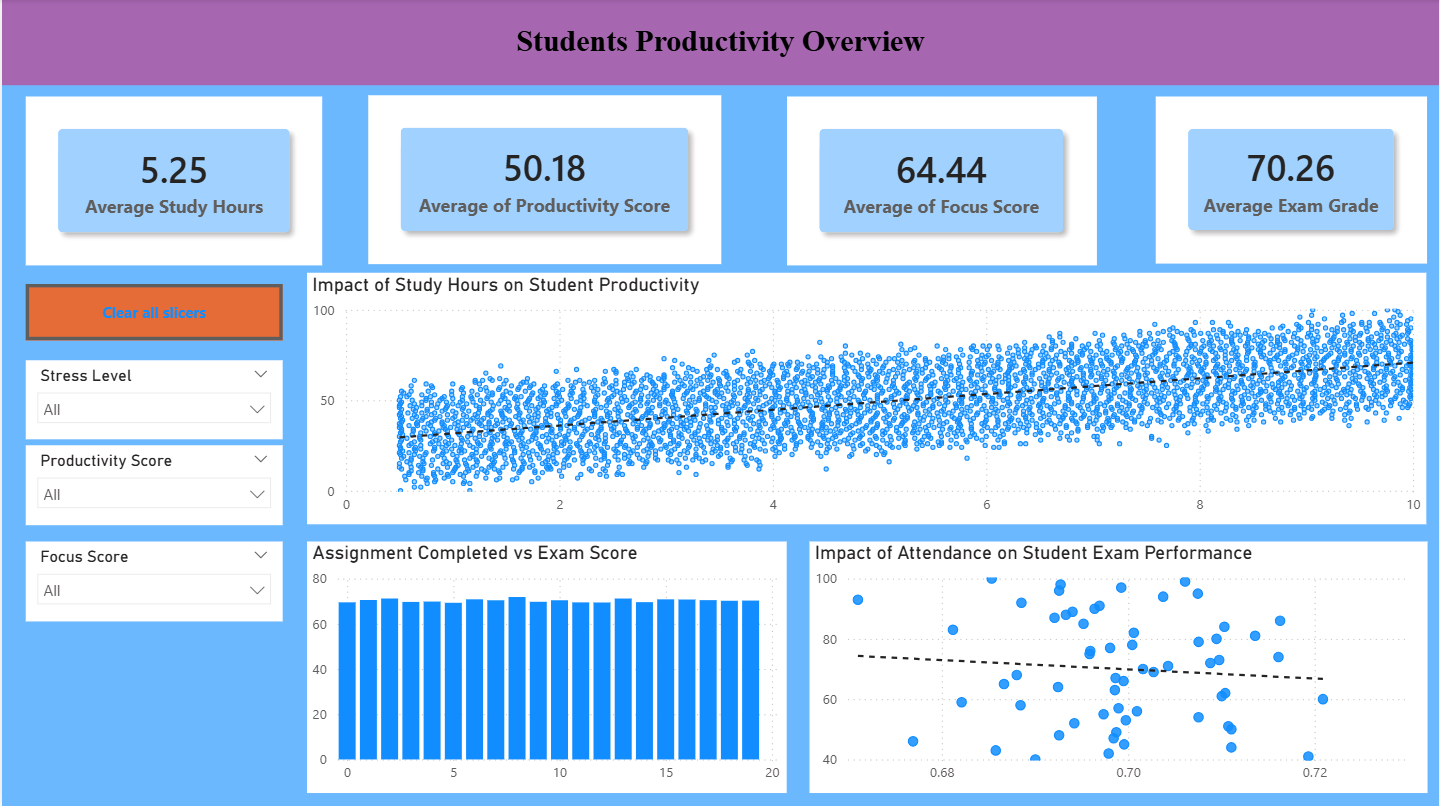

The dashboard page shown, as its layout file describes it:
{"tool":"powerbi","page":{"name":"Student Productivity Overview","canvas":[1280,720],"ordinal":0},"visuals":[{"type":"textbox","box":[0,0,1280,77.1],"z":0},{"type":"cardVisual","fields":{"Data":["Avg(Productivity and Distraction Analysis.Study Hours)"]},"box":[21.4,87.1,264.3,150],"z":1000},{"type":"cardVisual","fields":{"Data":["Avg(Productivity and Distraction Analysis.Productivity Score)"]},"box":[325.7,85.7,314.3,150],"z":2000},{"type":"cardVisual","fields":{"Data":["Avg(Productivity and Distraction Analysis.Focus Score)"]},"box":[698.6,87.1,275.7,150],"z":3000},{"type":"cardVisual","fields":{"Data":["Avg(Productivity and Distraction Analysis.Final Grade)"]},"box":[1027.1,87.1,241.4,148.6],"z":4000},{"type":"scatterChart","title":"Impact of Study Hours on Student Productivity","fields":{"Y":["Productivity and Distraction Analysis.Productivity Score"],"X":["Productivity and Distraction Analysis.Study Hours"]},"box":[271.4,244.3,997.1,224.3],"z":5000},{"type":"clusteredColumnChart","title":"Assignment Completed vs Exam Score","fields":{"Category":["Productivity and Distraction Analysis.Assignments Completed"],"Y":["Avg(Productivity and Distraction Analysis.Final Grade)"]},"box":[271.4,482.9,427.1,224.3],"z":6000},{"type":"scatterChart","title":"Impact of Attendance on Student Exam Performance","fields":{"X":["Avg(Productivity and Distraction Analysis.Attendance Percentage)"],"Y":["Productivity and Distraction Analysis.Final Grade"]},"box":[718.6,482.9,550,224.3],"z":7000},{"type":"slicer","fields":{"Values":["Productivity and Distraction Analysis.Stress Level"]},"box":[21.4,321.4,228.6,70],"z":8000},{"type":"slicer","fields":{"Values":["Productivity and Distraction Analysis.Productivity Score"]},"box":[21.4,397.1,228.6,71.4],"z":9000},{"type":"slicer","fields":{"Values":["Productivity and Distraction Analysis.Focus Score"]},"box":[21.4,482.9,228.6,71.4],"z":10000},{"type":"actionButton","box":[21.2,253.8,228.8,50],"z":11000}]}

Visuals, with their boxes in screenshot pixels (x1, y1, x2, y2), scaled from the page's 1280x720 canvas onto the 1440x806 screenshot:
textbox: detection(0, 0, 1439, 86)
cardVisual - Avg(Productivity and Distraction Analysis.Study Hours): detection(24, 98, 321, 265)
cardVisual - Avg(Productivity and Distraction Analysis.Productivity Score): detection(366, 96, 720, 264)
cardVisual - Avg(Productivity and Distraction Analysis.Focus Score): detection(786, 98, 1096, 265)
cardVisual - Avg(Productivity and Distraction Analysis.Final Grade): detection(1155, 98, 1427, 264)
"Impact of Study Hours on Student Productivity" scatterChart: detection(305, 273, 1427, 525)
"Assignment Completed vs Exam Score" clusteredColumnChart: detection(305, 541, 786, 792)
"Impact of Attendance on Student Exam Performance" scatterChart: detection(808, 541, 1427, 792)
slicer - Productivity and Distraction Analysis.Stress Level: detection(24, 360, 281, 438)
slicer - Productivity and Distraction Analysis.Productivity Score: detection(24, 445, 281, 524)
slicer - Productivity and Distraction Analysis.Focus Score: detection(24, 541, 281, 621)
actionButton: detection(24, 284, 281, 340)
